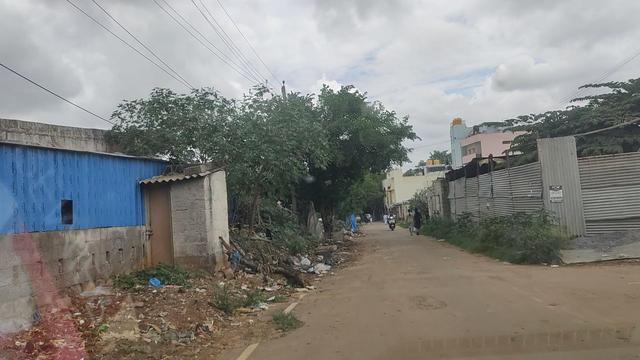RoadDamages: (404, 288, 452, 320)
